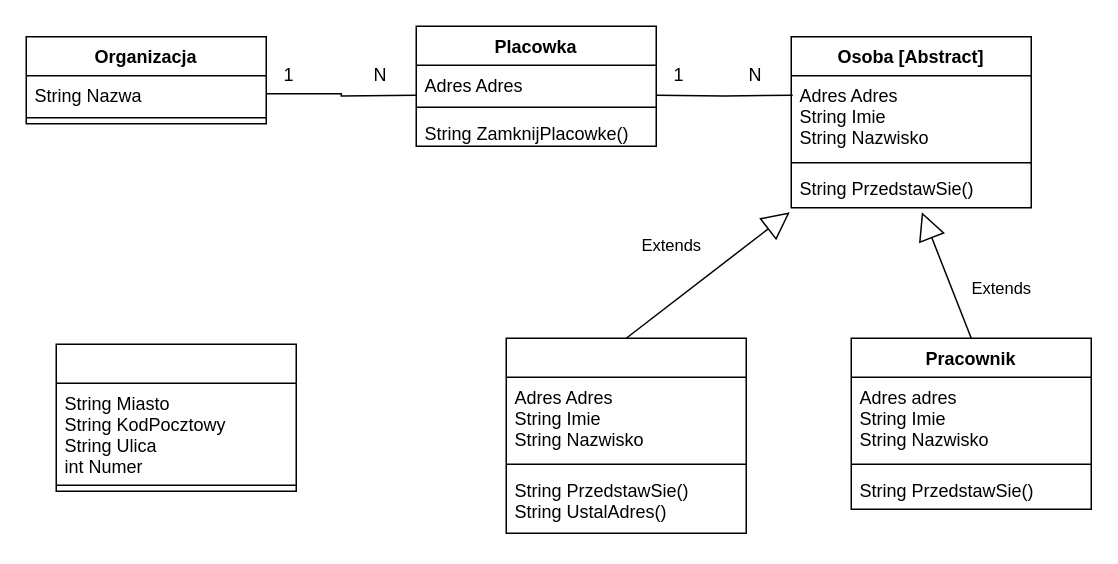
This 1118x564 diagram has some shape labels left out. Here are the shapes that lost their labels. From the top down, the box of each, then its label:
(55, 343, 296, 491): Adres
(505, 337, 746, 533): Kierownik
